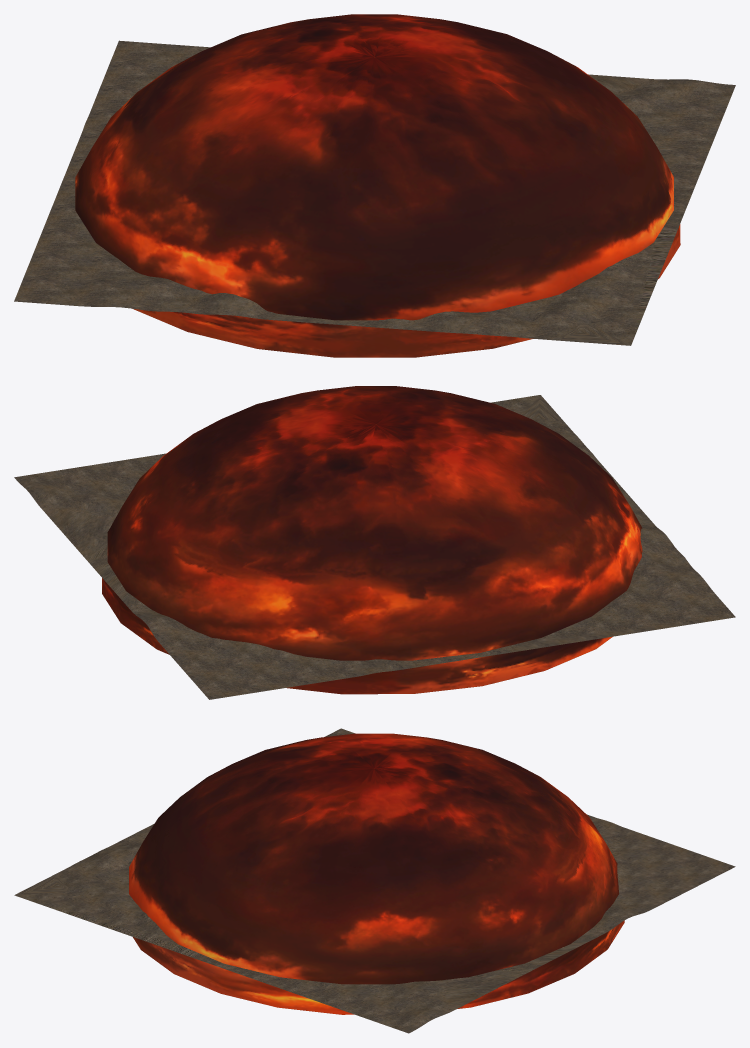
File: map 79p3.glb
3 renders of one model, top to bottom at view 1: azimuth 30°, elevation 25°; view 2: azimuth 150°, elevation 25°; view 3: azimuth 270°, elevation 25°, orthographic. The views are drawn at different scales.
Parts seen in each view (by area): view 1: Object_7, Plane.001; view 2: Object_7, Plane.001; view 3: Object_7, Plane.001.
Part boxes in pixels (<box>): Object_7: <box>75,14,680,357</box>; Plane.001: <box>14,40,735,345</box>; Object_7: <box>102,386,642,694</box>; Plane.001: <box>14,395,735,699</box>; Object_7: <box>129,733,624,1014</box>; Plane.001: <box>14,728,735,1033</box>.
Bounding box in the file's own units: 854 × 183 × 854.
6 materials, 4 textured.
